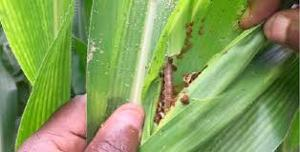fallarmy_worm: (159, 57, 178, 117)
